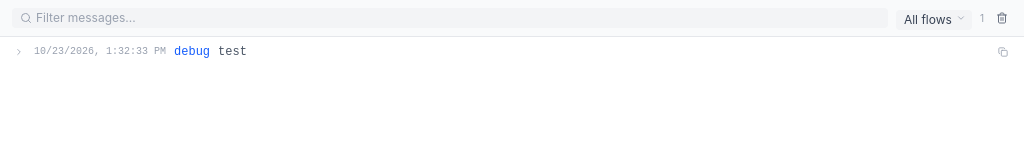
Scenario: DebugPanel › expand tree view › collapses tree view on second click
The image size is (1024, 160).
Click the button with test id "debug-expand-btn" at x=19, y=52, box [12,45,26,59]
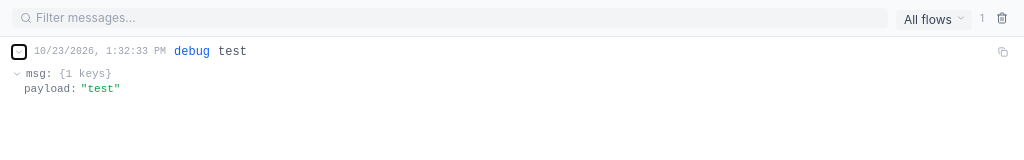
Result: the element with test id "debug-tree-view" is shown at [12,67,120,95]
Click the button with test id "debug-expand-btn" at x=19, y=52, box [12,45,26,59]
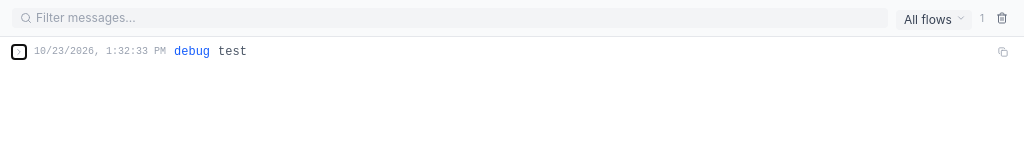
Result: the element with test id "debug-tree-view" is gone
